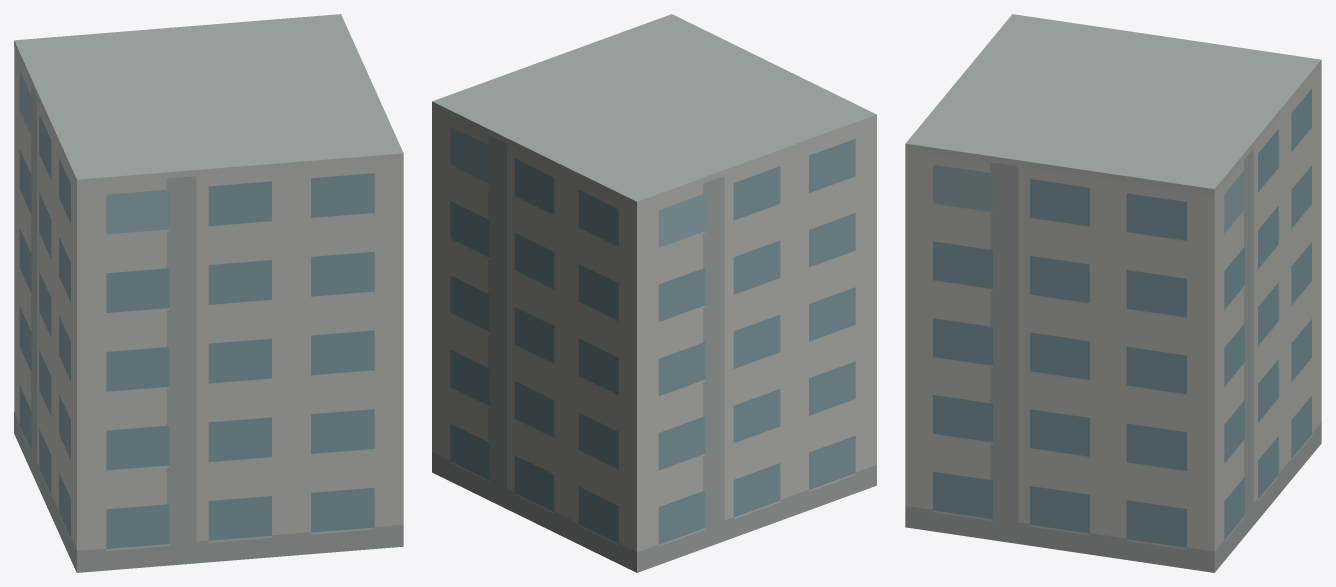
The model's file is residential-250c6871-3ef6-410f-9287-cd83ffd2b29e.glb.
The picture shows the model from 3 angles, left to right: view 1: azimuth 30°, elevation 25°; view 2: azimuth 150°, elevation 25°; view 3: azimuth 270°, elevation 25°; orthographic projection. The views are drawn at different scales.
Visible parts, largest first — view 1: residential-250c6871-3ef6-410f-9287-cd83ffd2b29e.tmp; view 2: residential-250c6871-3ef6-410f-9287-cd83ffd2b29e.tmp; view 3: residential-250c6871-3ef6-410f-9287-cd83ffd2b29e.tmp.
Boxes of the visible parts, bbox=[...] form: residential-250c6871-3ef6-410f-9287-cd83ffd2b29e.tmp: bbox=[14, 14, 403, 572]; residential-250c6871-3ef6-410f-9287-cd83ffd2b29e.tmp: bbox=[432, 14, 876, 572]; residential-250c6871-3ef6-410f-9287-cd83ffd2b29e.tmp: bbox=[905, 14, 1321, 572].
Size of the model in its own units: 14.94 by 15.25 by 14.99.
